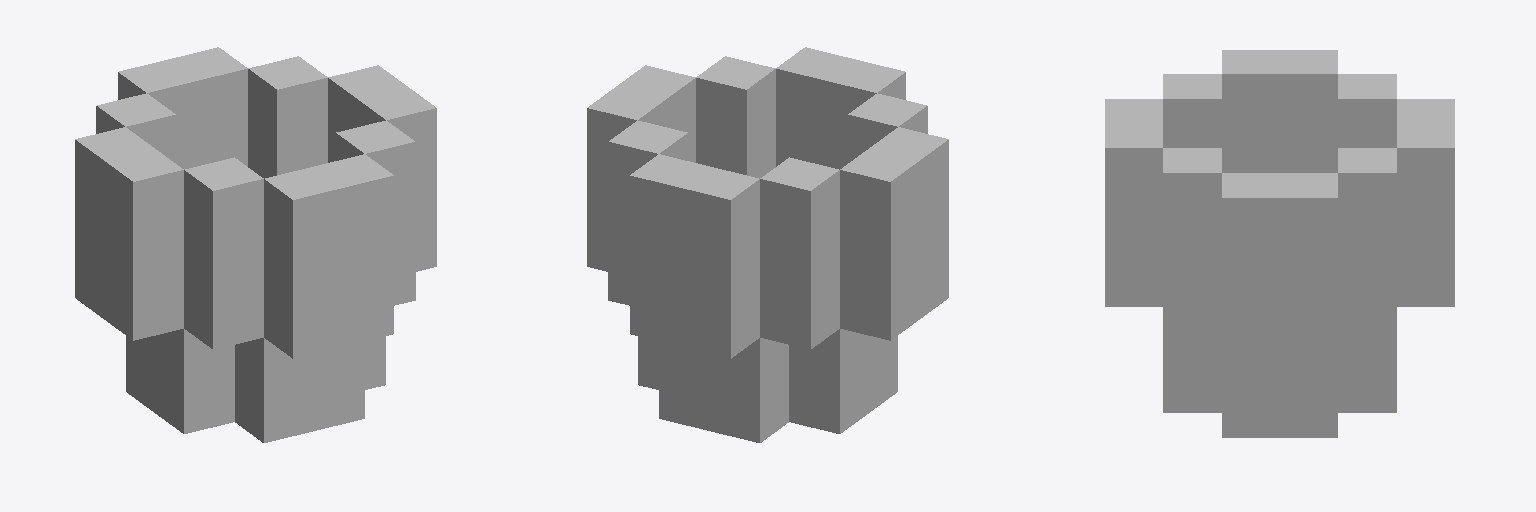
File: cooking_mortar.obj
The picture shows the model from 3 angles: view 1: azimuth 30°, elevation 25°; view 2: azimuth 150°, elevation 25°; view 3: azimuth 270°, elevation 25°; orthographic projection.
Parts seen in each view (by area): view 1: node_0_0_0; view 2: node_0_0_0; view 3: node_0_0_0.
Boxes of the visible parts, box(x1,y1,x2,y2) form: node_0_0_0: box(75, 47, 436, 442); node_0_0_0: box(587, 47, 948, 442); node_0_0_0: box(1105, 50, 1454, 437).
Size of the model in its own units: 0.375 by 0.3125 by 0.375.